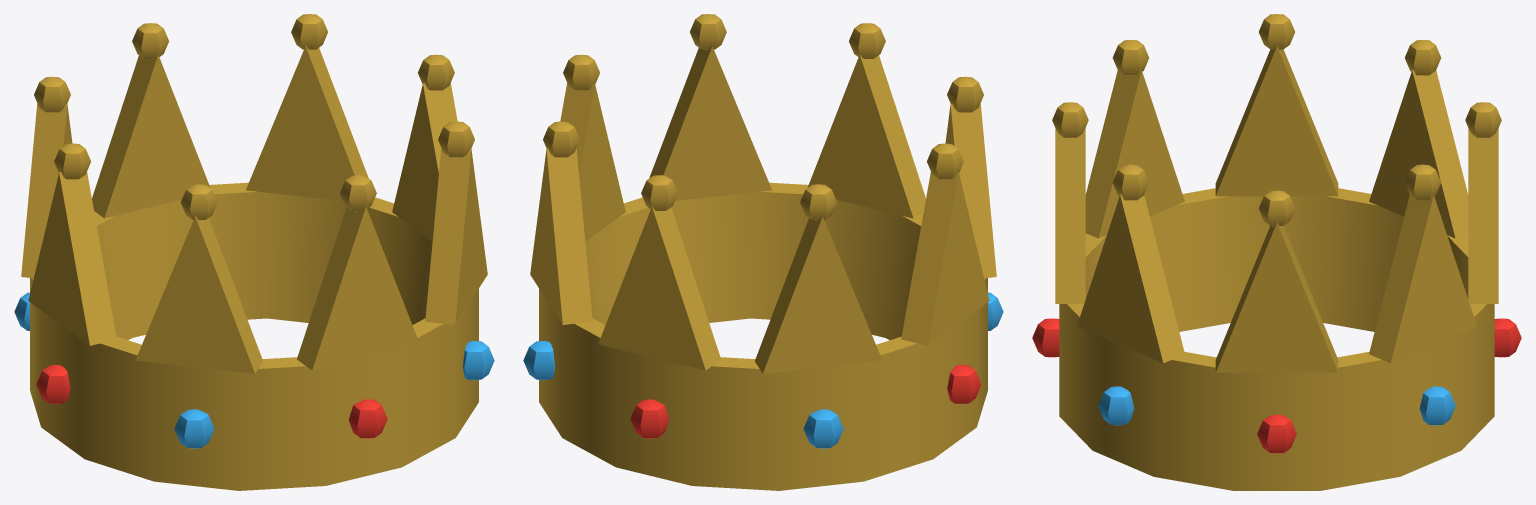
File: 401_couronne_or.fbx
3 views of the same model, side by side, from view 1: azimuth 30°, elevation 25°; view 2: azimuth 150°, elevation 25°; view 3: azimuth 270°, elevation 25° (orthographic).
Parts seen in each view (by area): view 1: Couronne; view 2: Couronne; view 3: Couronne.
Part boxes in pixels (x1,y1,x2,y2): Couronne: (14,14,494,490); Couronne: (523,14,1003,490); Couronne: (1032,14,1521,490).
Bounding box in the file's own units: 0.84 × 0.56 × 0.84.
1 material, 1 textured.
